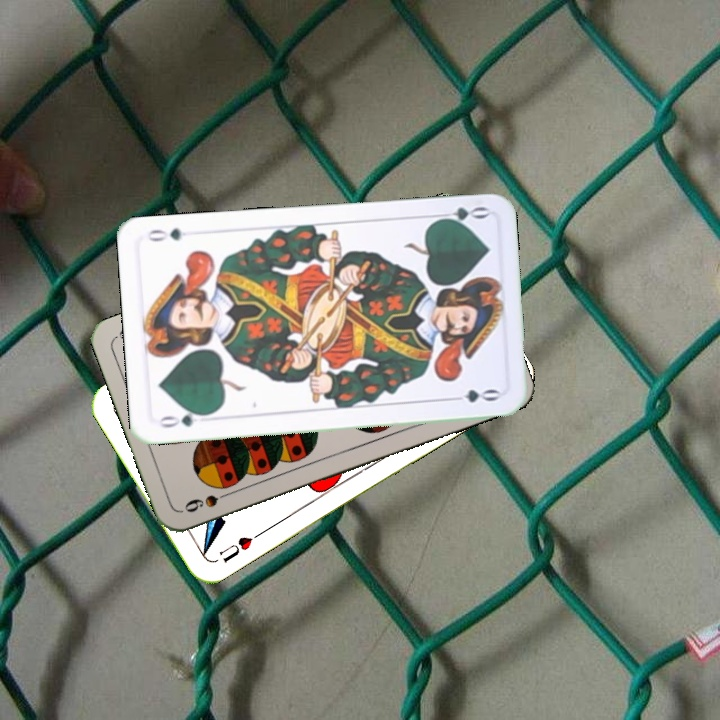GO: (431, 202, 490, 228), (154, 406, 213, 430)
HU: (215, 528, 264, 566)
S9: (180, 486, 237, 515)
